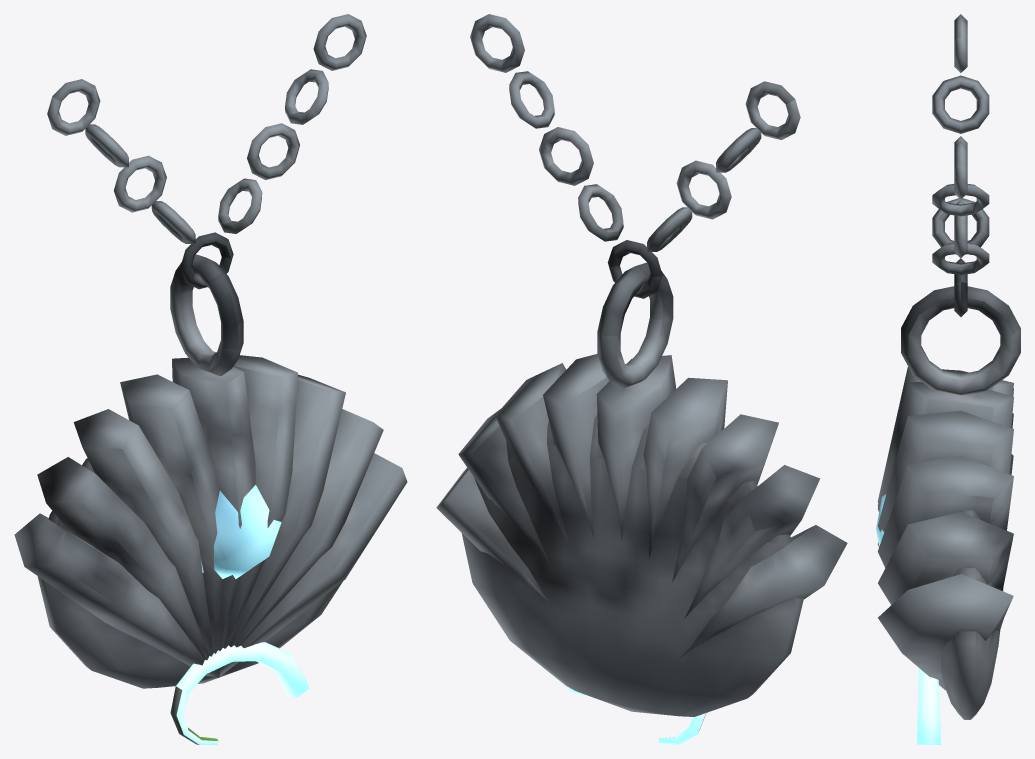
The model's file is AmuletTide.fbx.
The picture shows the model from 3 angles, left to right: view 1: azimuth 30°, elevation 25°; view 2: azimuth 150°, elevation 25°; view 3: azimuth 270°, elevation 25°; orthographic projection. The views are drawn at different scales.
Parts seen in each view (by area): view 1: AmuletTide; view 2: AmuletTide; view 3: AmuletTide.
Part boxes in pixels (x1,y1,x2,y2): AmuletTide: (14, 14, 407, 744); AmuletTide: (436, 14, 847, 744); AmuletTide: (876, 14, 1020, 744).
Bounding box in the file's own units: 0.2476 × 0.4405 × 0.0871.
